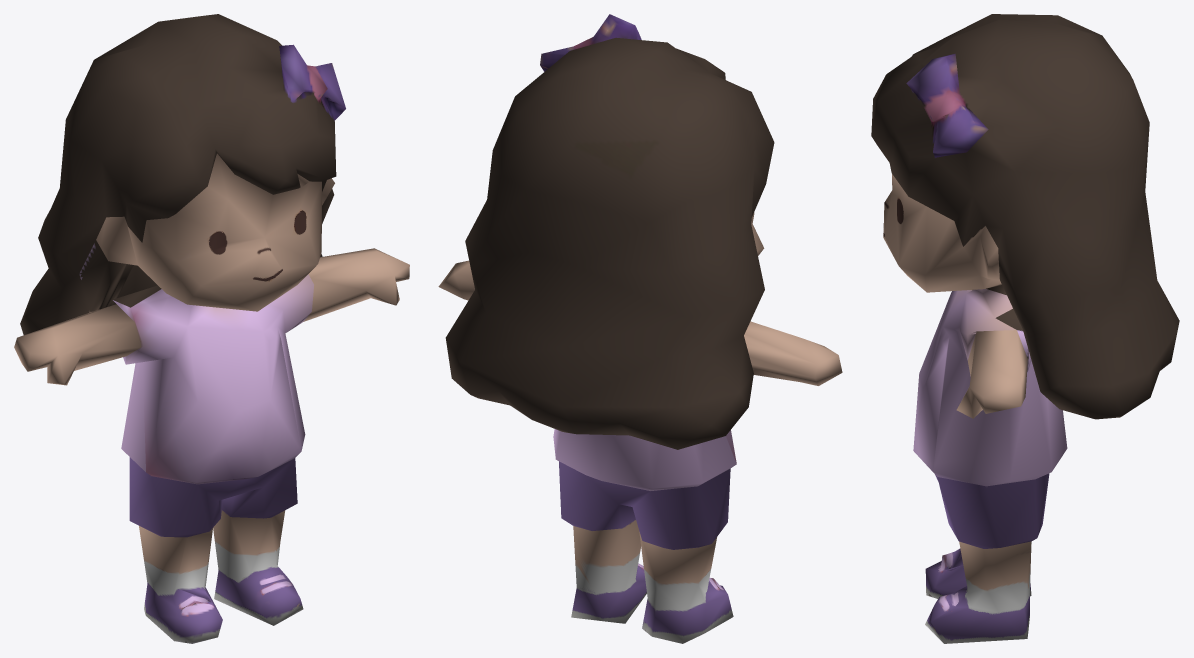
The model's file is Cakegirl.fbx.
3 views of the same model, side by side, from view 1: azimuth 30°, elevation 25°; view 2: azimuth 150°, elevation 25°; view 3: azimuth 270°, elevation 25° (orthographic). The views are drawn at different scales.
Parts seen in each view (by area): view 1: node_low; view 2: node_low; view 3: node_low.
Boxes of the visible parts, x1,y1,x2,y2 form: node_low: (14, 14, 409, 643); node_low: (438, 14, 842, 643); node_low: (871, 14, 1179, 643).
Size of the model in its own units: 80.21 by 54.33 by 113.
